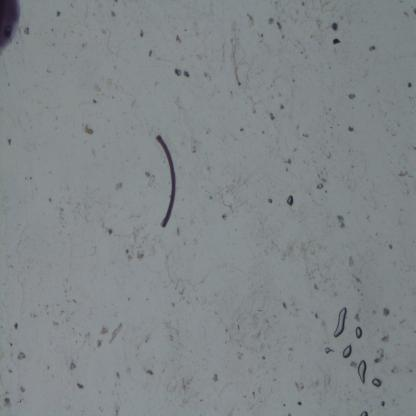Air bubble: (333, 306, 348, 338), (357, 359, 367, 384), (342, 344, 352, 359), (286, 194, 294, 206), (372, 378, 381, 388), (356, 326, 362, 340), (324, 346, 332, 354), (360, 411, 369, 416), (268, 198, 272, 204)
Background material: (225, 170, 255, 199), (228, 47, 242, 86), (281, 242, 303, 263), (108, 323, 122, 344), (133, 222, 146, 242), (180, 377, 196, 392), (188, 135, 199, 155), (166, 328, 178, 344), (82, 122, 96, 134), (246, 10, 256, 26), (374, 348, 385, 362), (336, 214, 346, 229), (134, 247, 144, 262), (231, 30, 240, 45), (170, 277, 182, 288), (146, 174, 156, 187), (318, 0, 330, 10), (348, 253, 356, 267), (100, 326, 110, 337), (67, 361, 78, 371), (4, 397, 13, 409), (226, 204, 236, 214), (381, 333, 390, 344), (201, 72, 212, 81), (59, 205, 65, 221), (19, 382, 27, 394), (126, 249, 133, 262), (96, 220, 105, 230), (399, 168, 409, 177), (295, 382, 304, 392), (353, 311, 361, 322), (324, 374, 330, 388), (275, 19, 282, 31), (82, 332, 90, 342), (174, 67, 182, 77), (18, 351, 26, 361), (114, 403, 120, 416), (256, 328, 262, 340), (383, 307, 390, 317), (24, 26, 31, 36), (354, 276, 362, 284), (316, 182, 324, 190), (332, 37, 340, 45), (391, 366, 399, 374), (80, 41, 88, 49), (350, 360, 358, 368), (152, 79, 160, 87), (178, 288, 185, 297), (283, 158, 292, 165), (288, 353, 294, 363), (315, 18, 322, 26), (348, 92, 355, 100), (257, 30, 264, 38), (313, 380, 320, 388), (170, 300, 177, 308), (107, 228, 114, 236), (221, 214, 228, 222), (145, 369, 154, 375), (238, 350, 244, 359), (96, 339, 102, 348), (282, 300, 288, 309), (213, 373, 219, 382), (269, 112, 275, 121), (301, 132, 310, 138), (229, 88, 234, 98), (176, 226, 181, 236), (251, 390, 256, 400), (115, 184, 122, 191), (184, 71, 191, 78), (332, 22, 338, 30), (130, 100, 136, 108), (144, 335, 150, 343), (312, 282, 318, 290), (94, 84, 100, 92), (268, 17, 274, 25), (326, 151, 331, 160), (148, 48, 153, 57), (140, 27, 144, 38), (77, 382, 84, 388), (52, 320, 59, 326), (126, 367, 132, 374), (56, 11, 62, 18), (192, 238, 198, 245), (369, 45, 375, 52), (145, 170, 150, 178), (7, 138, 12, 146), (115, 372, 120, 380), (366, 214, 371, 222), (348, 126, 354, 132), (391, 132, 397, 138), (371, 309, 377, 315), (176, 36, 182, 42), (380, 400, 385, 407), (402, 12, 409, 17), (407, 81, 412, 88), (297, 400, 302, 407), (279, 35, 286, 40), (399, 318, 404, 325), (14, 323, 18, 331), (412, 144, 416, 152), (397, 120, 401, 128), (236, 323, 240, 331), (296, 124, 300, 132), (309, 32, 314, 38), (408, 174, 414, 179), (276, 93, 282, 98), (238, 127, 244, 132), (110, 11, 116, 16), (16, 399, 22, 404), (72, 298, 77, 304), (274, 0, 279, 6), (388, 244, 394, 249), (398, 207, 404, 212), (207, 164, 211, 171), (322, 178, 327, 183), (197, 54, 202, 59), (92, 99, 97, 104), (252, 110, 258, 114), (8, 368, 12, 374), (102, 28, 106, 34), (60, 310, 66, 314), (315, 312, 318, 320), (48, 197, 52, 203), (413, 7, 416, 14), (324, 188, 328, 193), (294, 148, 298, 153), (266, 319, 270, 324), (9, 342, 13, 347), (45, 305, 49, 310), (289, 347, 293, 352), (281, 104, 285, 109), (328, 106, 331, 112), (293, 78, 296, 84), (348, 210, 351, 216), (283, 402, 286, 408), (299, 50, 303, 54), (340, 16, 344, 20), (287, 412, 291, 416), (199, 398, 203, 402), (262, 356, 266, 360), (70, 311, 74, 315), (114, 0, 118, 4), (209, 196, 213, 200), (301, 2, 304, 6), (360, 292, 363, 296), (127, 297, 130, 301), (413, 330, 416, 334), (410, 369, 413, 373), (398, 1, 404, 3), (357, 288, 360, 292), (46, 312, 49, 315), (330, 125, 332, 129), (337, 124, 340, 126)
Microfibre: (155, 132, 177, 230)
Pen: (0, 0, 21, 53)
